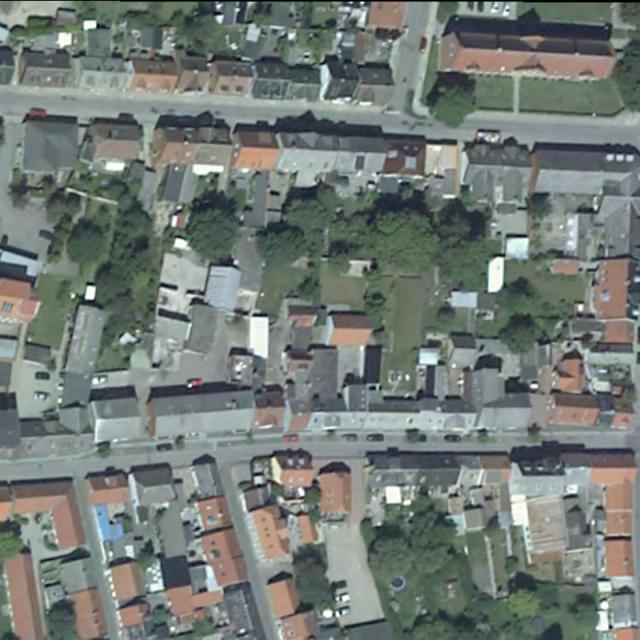vehicle: (334, 607, 352, 618), (334, 593, 352, 603), (34, 371, 50, 382), (442, 434, 463, 442), (420, 36, 429, 54), (157, 443, 173, 453), (91, 376, 108, 385), (366, 434, 385, 442), (187, 378, 202, 388), (32, 393, 50, 401), (330, 581, 346, 590), (283, 434, 300, 442), (342, 435, 358, 442), (637, 326, 640, 346), (637, 352, 640, 366)
